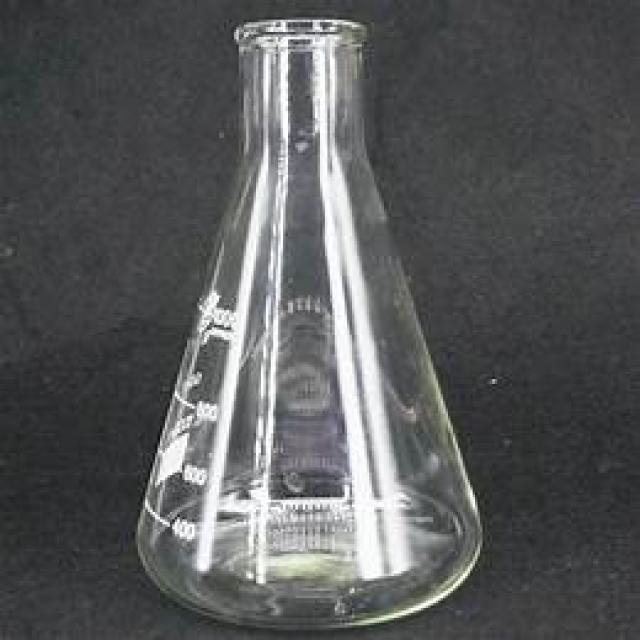Titrarion: (120, 25, 485, 632)
